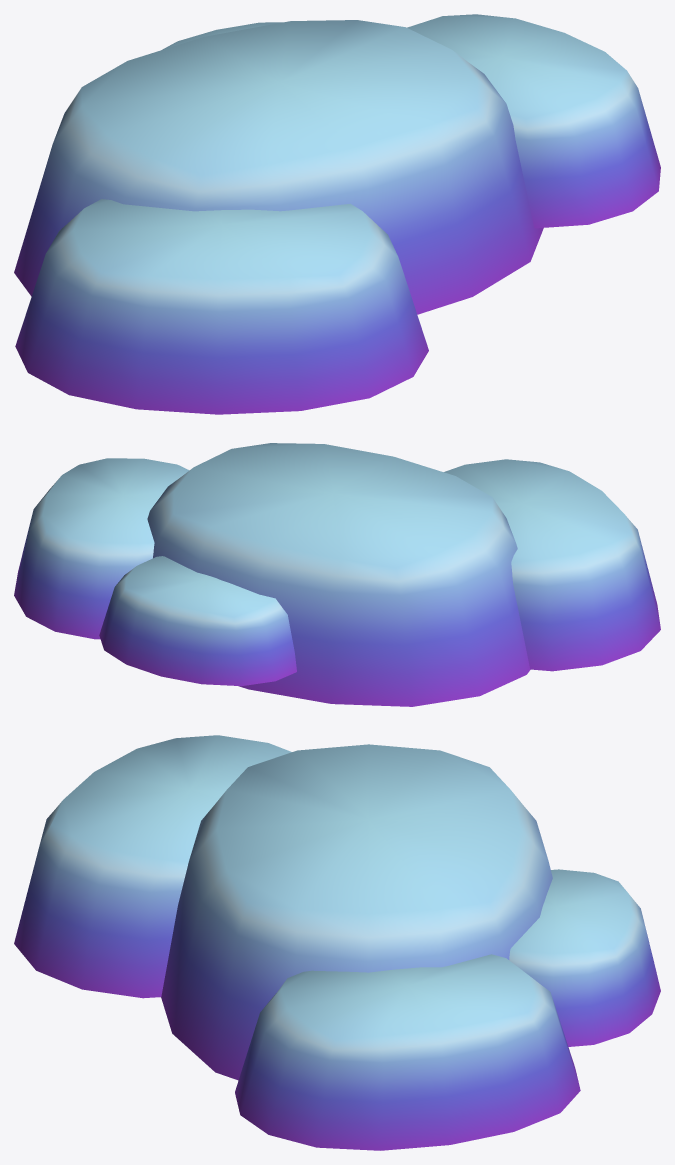
The model's file is Rocks_5.fbx.
3 views of the same model, one above another, from view 1: azimuth 30°, elevation 25°; view 2: azimuth 150°, elevation 25°; view 3: azimuth 270°, elevation 25° (orthographic). The views are drawn at different scales.
Visible parts, largest first — view 1: Rocks_3.002; view 2: Rocks_3.002; view 3: Rocks_3.002.
Part boxes in pixels (x1,y1,x2,y2): Rocks_3.002: (14,14,660,414); Rocks_3.002: (14,443,660,706); Rocks_3.002: (14,735,660,1150).
Size of the model in its own units: 0.1801 by 0.7686 by 0.631.
